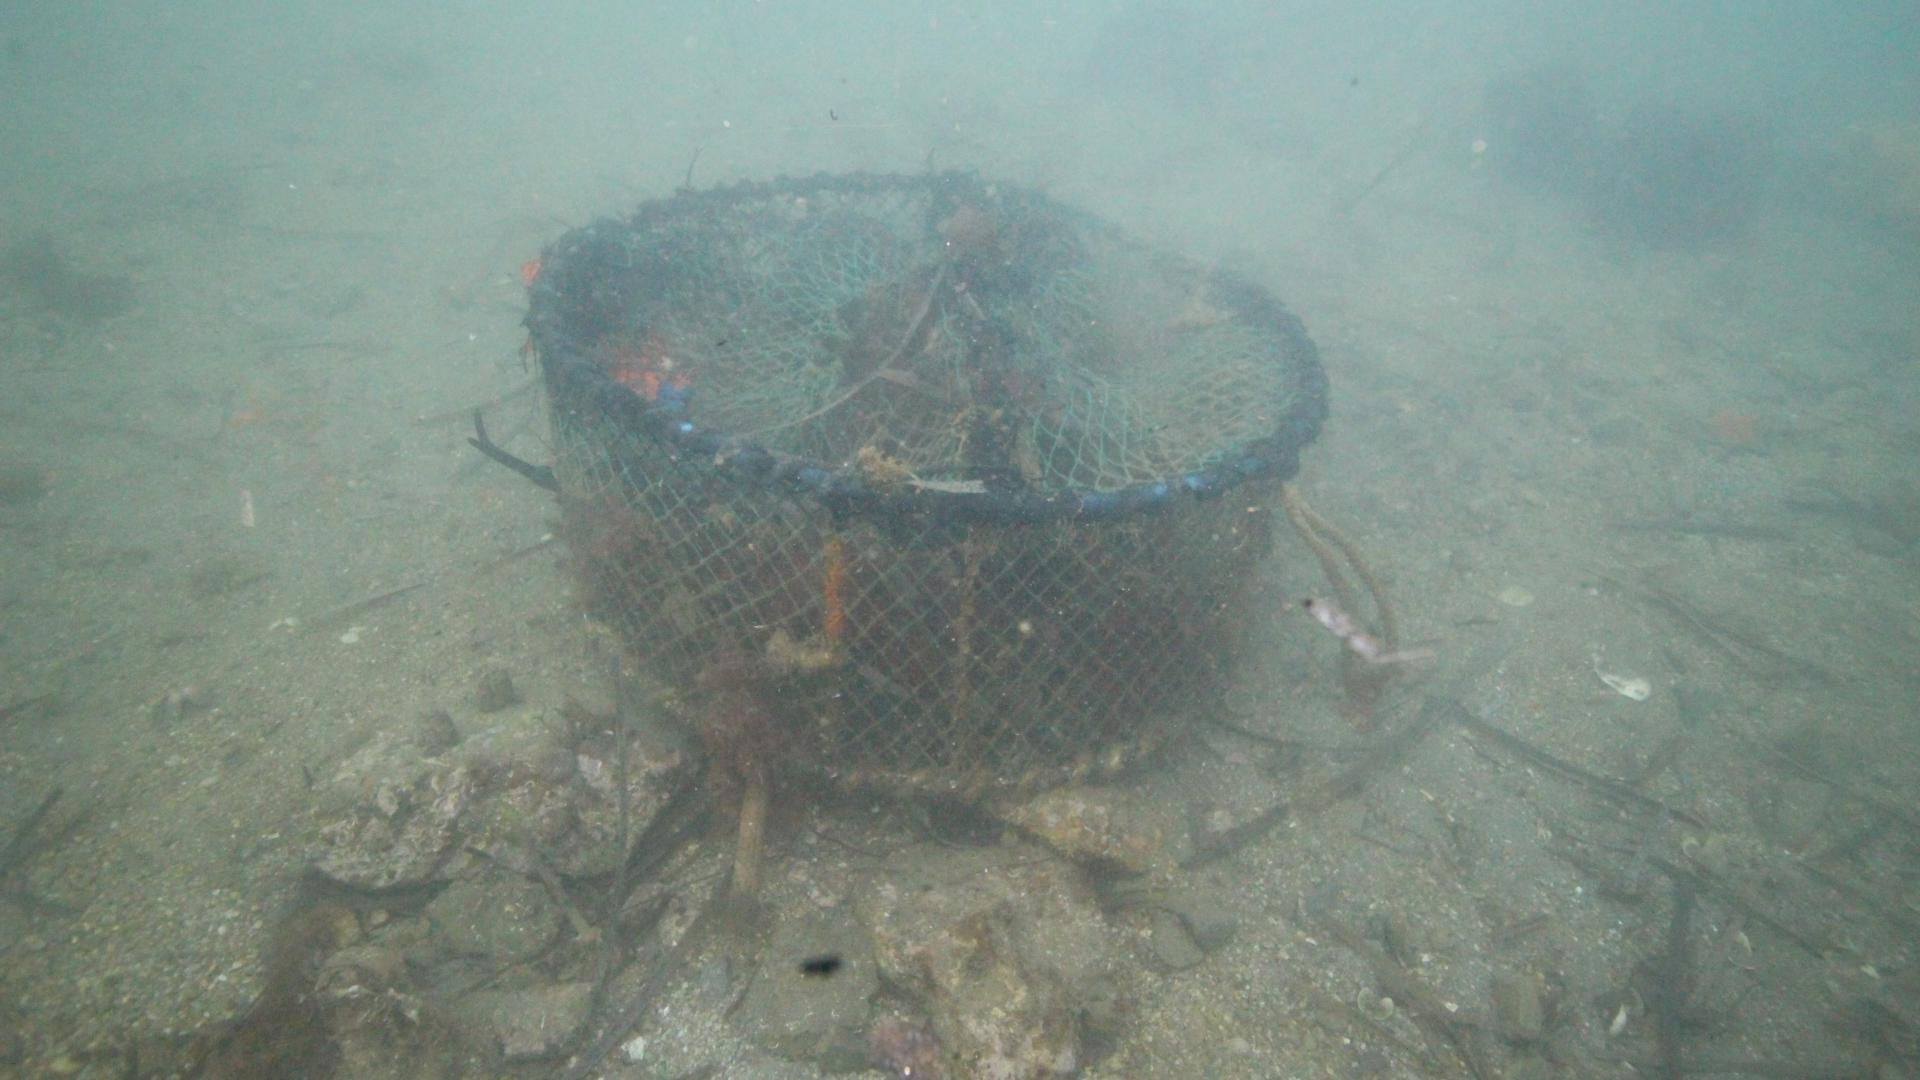circular fish trap: (526, 167, 1332, 800)
rope: (1280, 483, 1404, 695)
